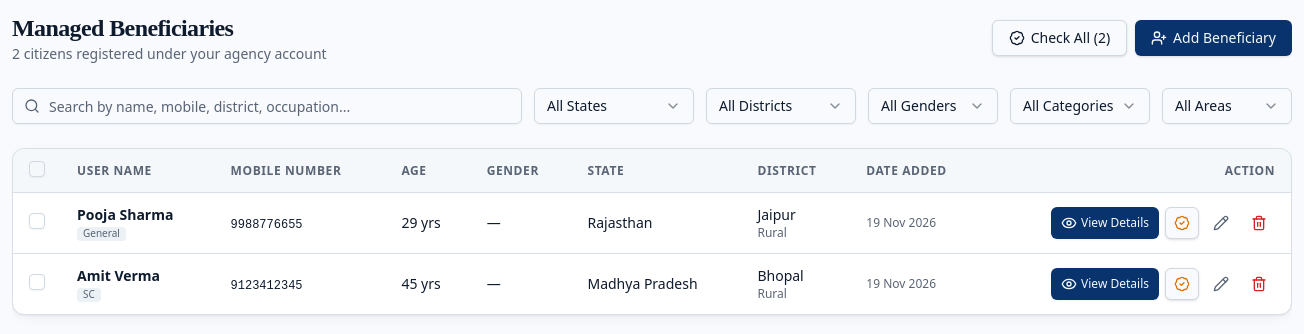
Test: Multi-User Beneficiary Management & 3-State Scheme Eligibility › 10. Lists managed beneficiaries and supports filtering and selection
Expected: the link "Pooja Sharma" is shown, [77,205,173,224]
Expected: the link "Amit Verma" is shown, [77,266,160,285]
# Search filter test
Type "Pooja" into the field with placeholder "Search by name, mobile, district, occupation...". click: (267, 106)
box: [12,88,522,124]
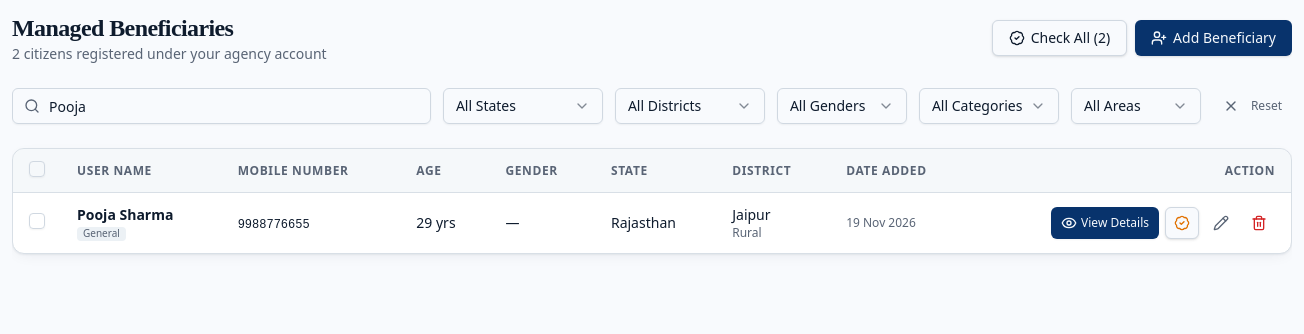
Expected: the link "Pooja Sharma" is shown, [77,205,173,224]
Now the link "Amit Verma" is gone
